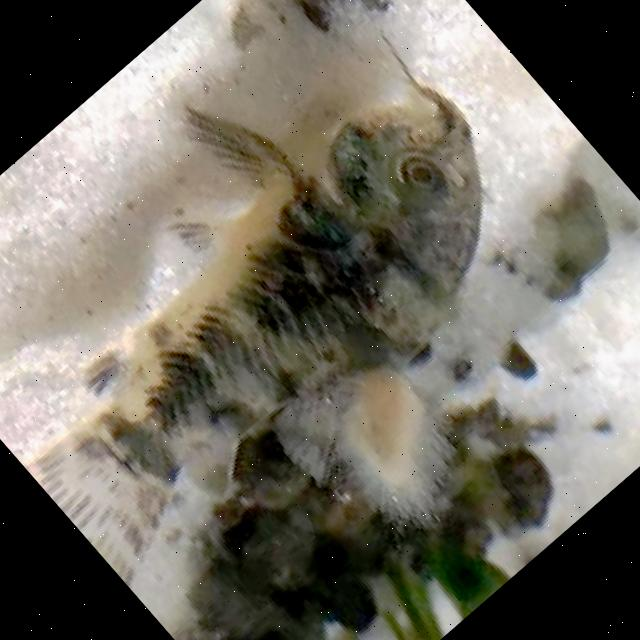Fungal Disease -Saprolegniasis-: (37, 90, 481, 638), (38, 89, 481, 637)
